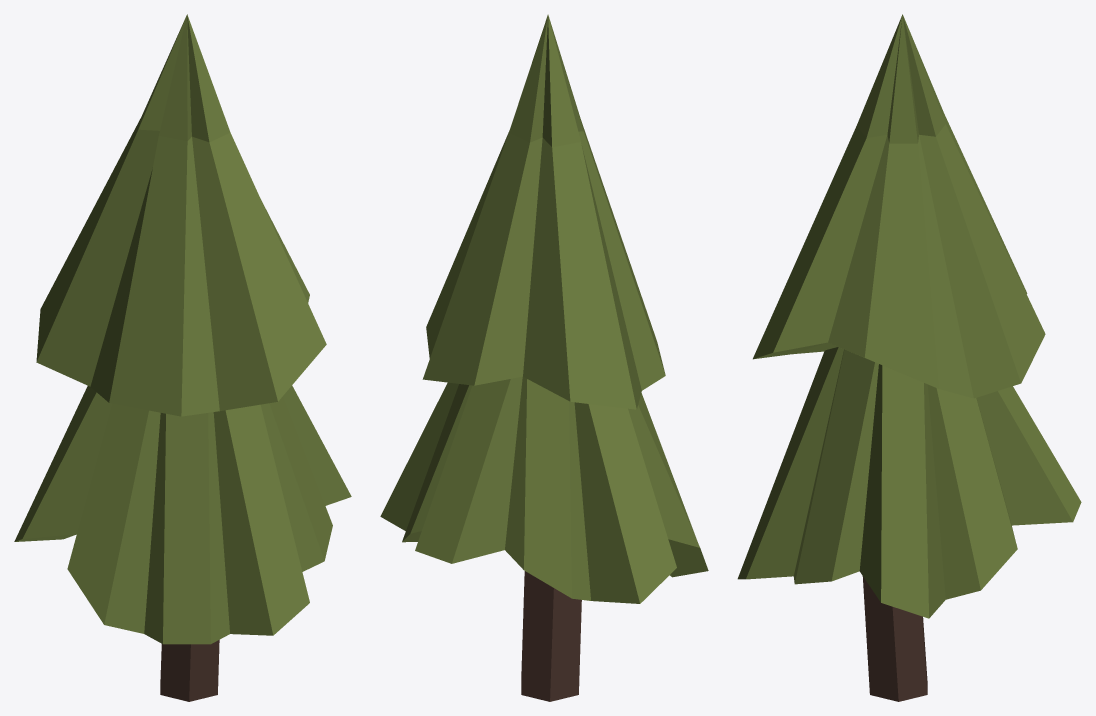
File: PineTree.glb
3 views of the same model, side by side, from view 1: azimuth 30°, elevation 25°; view 2: azimuth 150°, elevation 25°; view 3: azimuth 270°, elevation 25° (orthographic).
Visible parts, largest first — view 1: Tree Type2 02 Model; view 2: Tree Type2 02 Model; view 3: Tree Type2 02 Model.
Boxes of the visible parts, x1,y1,x2,y2 form: Tree Type2 02 Model: (14,14,351,701); Tree Type2 02 Model: (380,14,708,701); Tree Type2 02 Model: (737,14,1081,701).
Bounding box in the file's own units: 1.41 × 3.03 × 1.4.
Materials: 1 (1 with a texture image).
